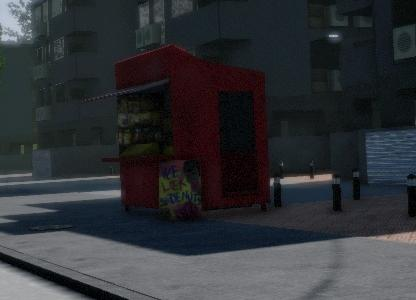Speed_60: (44, 102, 83, 143)
